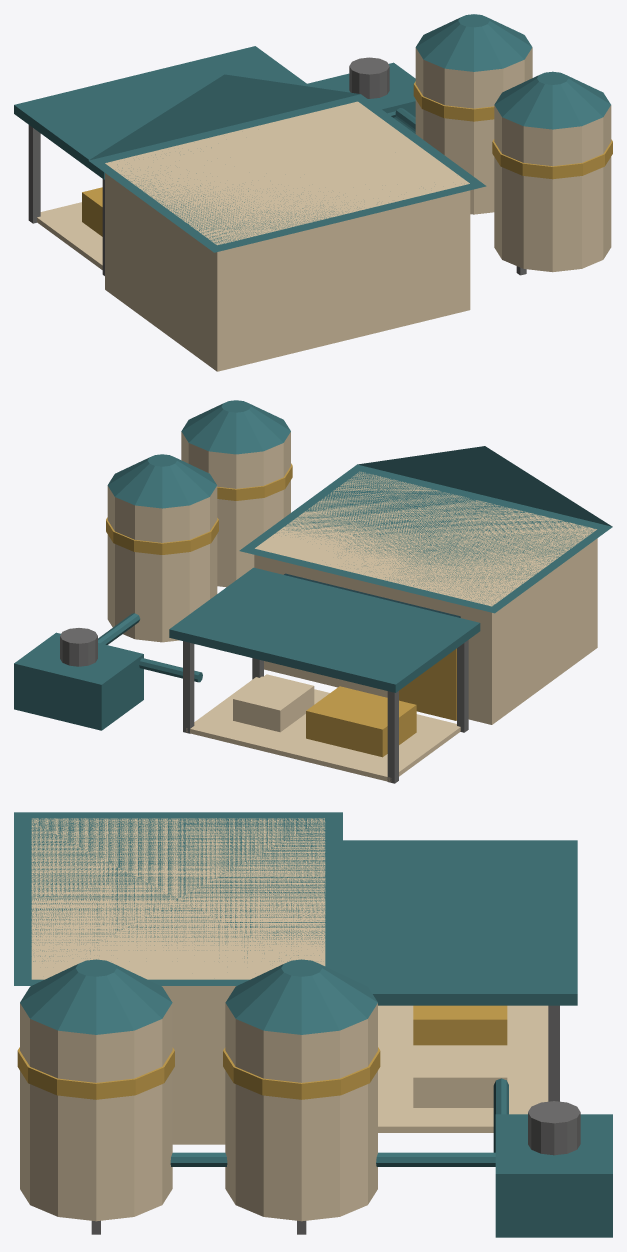
3 views of the same model, one above another, from view 1: azimuth 30°, elevation 25°; view 2: azimuth 150°, elevation 25°; view 3: azimuth 270°, elevation 25° (orthographic). The views are drawn at different scales.
Parts seen in each view (by area): view 1: Farm facility; view 2: Farm facility; view 3: Farm facility.
Boxes of the visible parts, x1,y1,x2,y2 form: Farm facility: (14,14,612,371); Farm facility: (14,400,612,783); Farm facility: (14,812,612,1237).
Size of the model in its own units: 10.84 by 4.6 by 10.2.
1 material, 1 textured.
